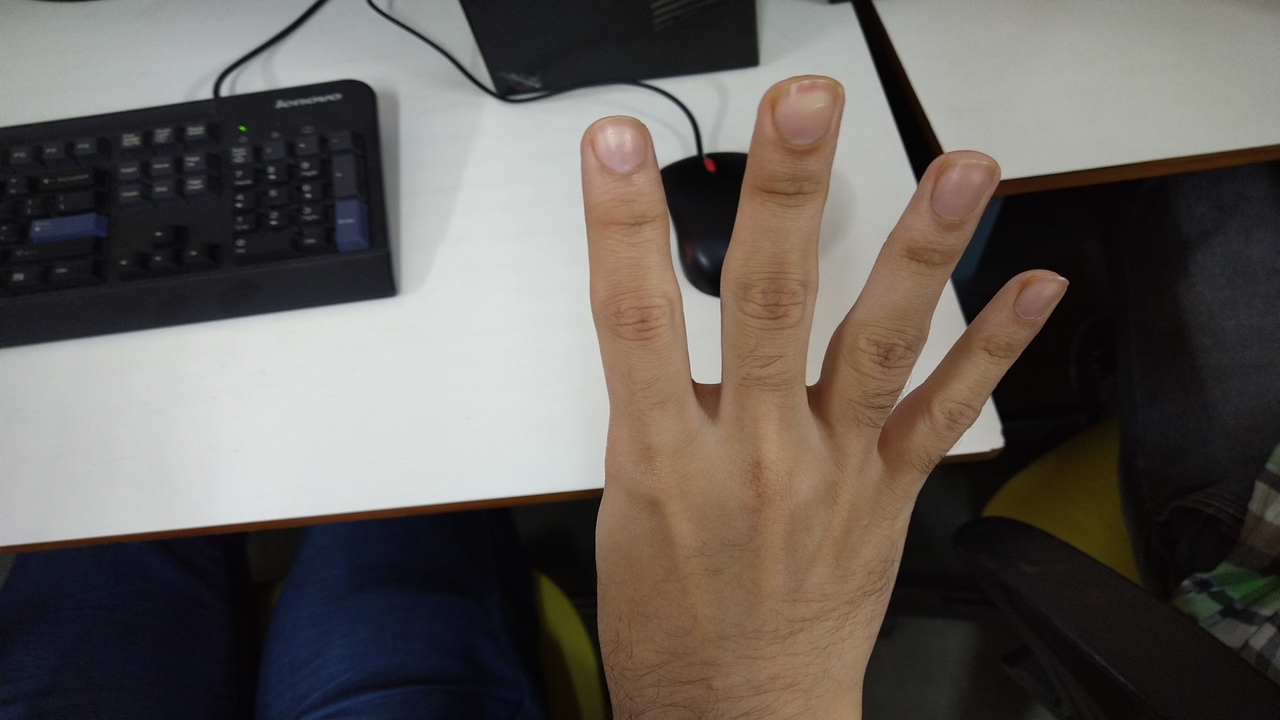fingertip: (750, 68, 856, 142), (922, 137, 1003, 230), (574, 112, 664, 176), (1000, 260, 1082, 326)
